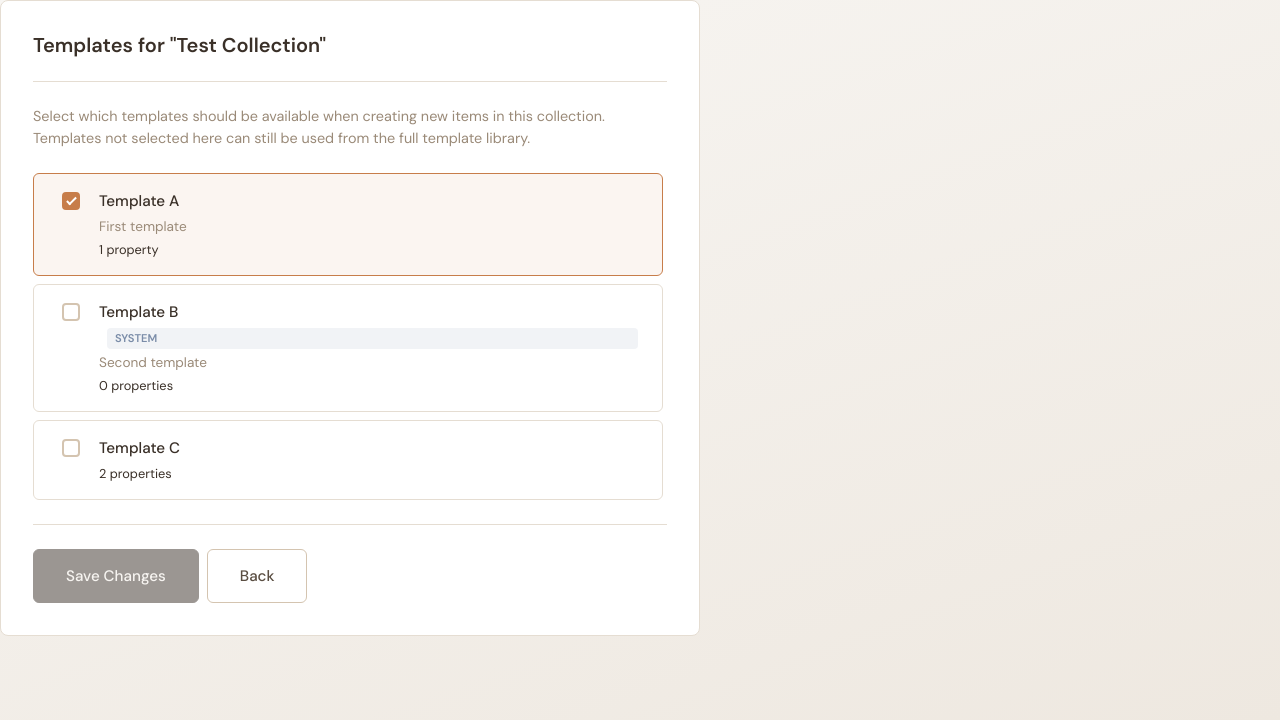
CollectionTemplateEditor › enables save button when changes made
Check: the text "Template B" is shown, box [99, 302, 178, 322]
Click the checkbox labelled "Template B System Second template 0 properties": (71, 312) [62, 303, 80, 321]
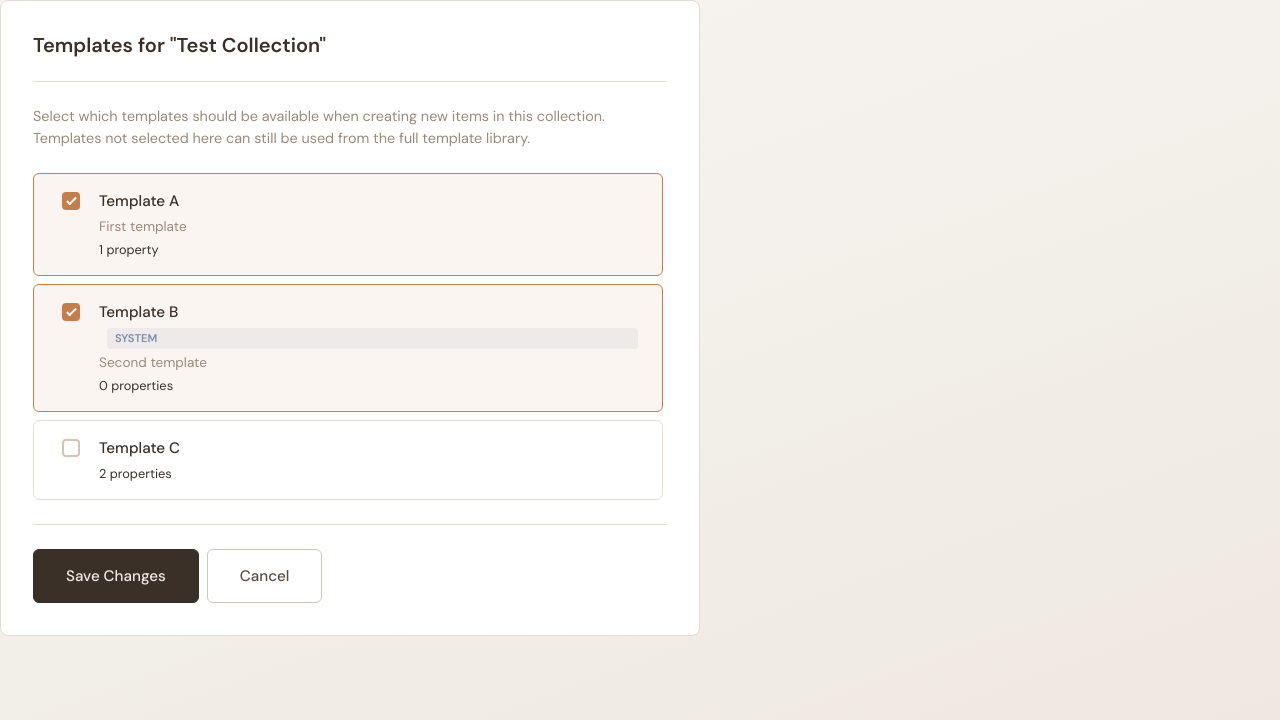
Check: the button "Save Changes" is enabled, box [33, 549, 199, 603]
